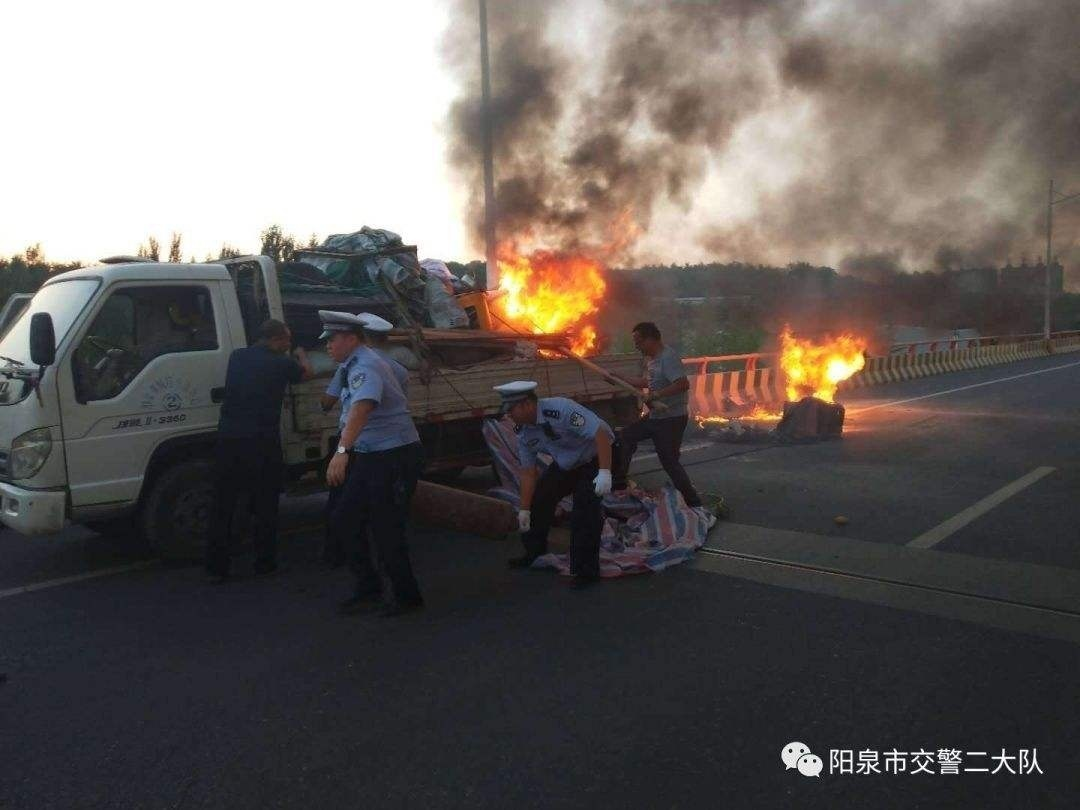fire: (486, 243, 608, 361), (779, 328, 867, 421)
